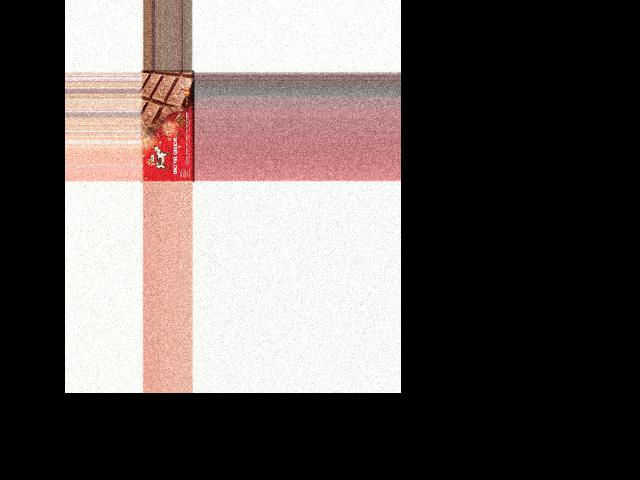chocolate: (141, 70, 194, 183)
